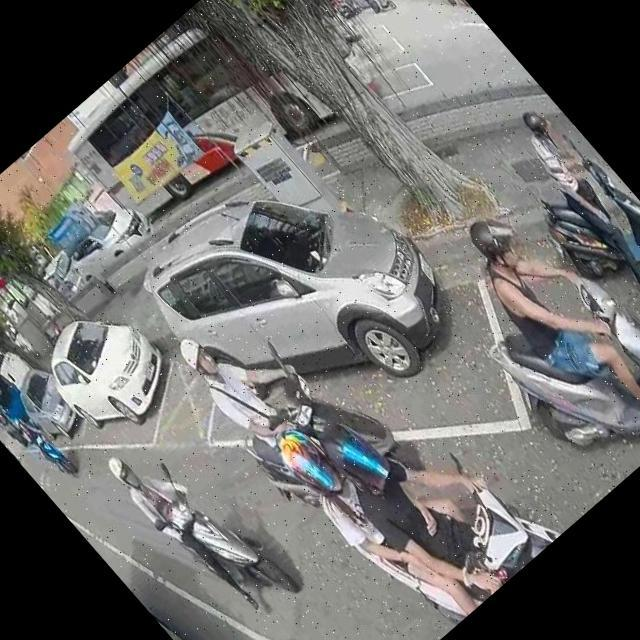person: (244, 358, 515, 640), (296, 352, 554, 621), (442, 187, 640, 458), (98, 418, 292, 626), (164, 292, 336, 471), (505, 100, 640, 305), (12, 410, 76, 480), (356, 0, 388, 12)
